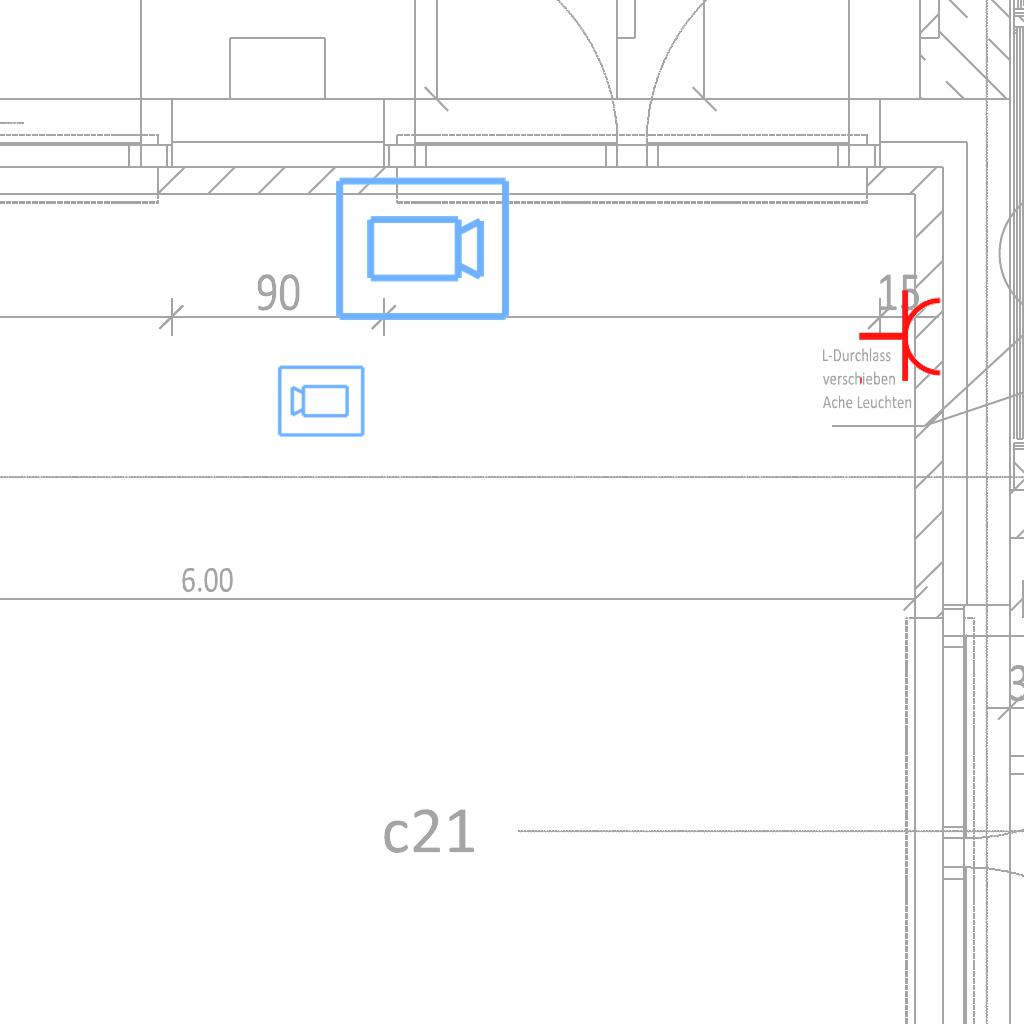KFO_Kamera_mit_Festobjektiv: (331, 173, 513, 327), (276, 362, 367, 439)
Schukosteckdose_einfach: (857, 288, 944, 388)
